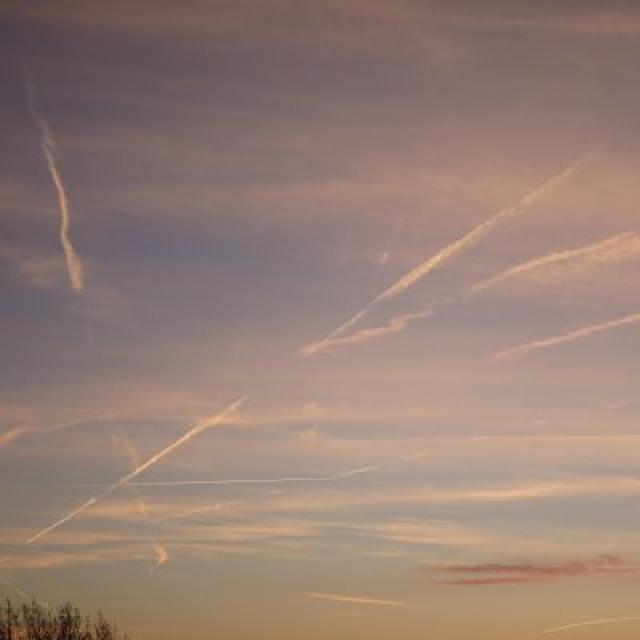Ct: (1, 52, 632, 528)
